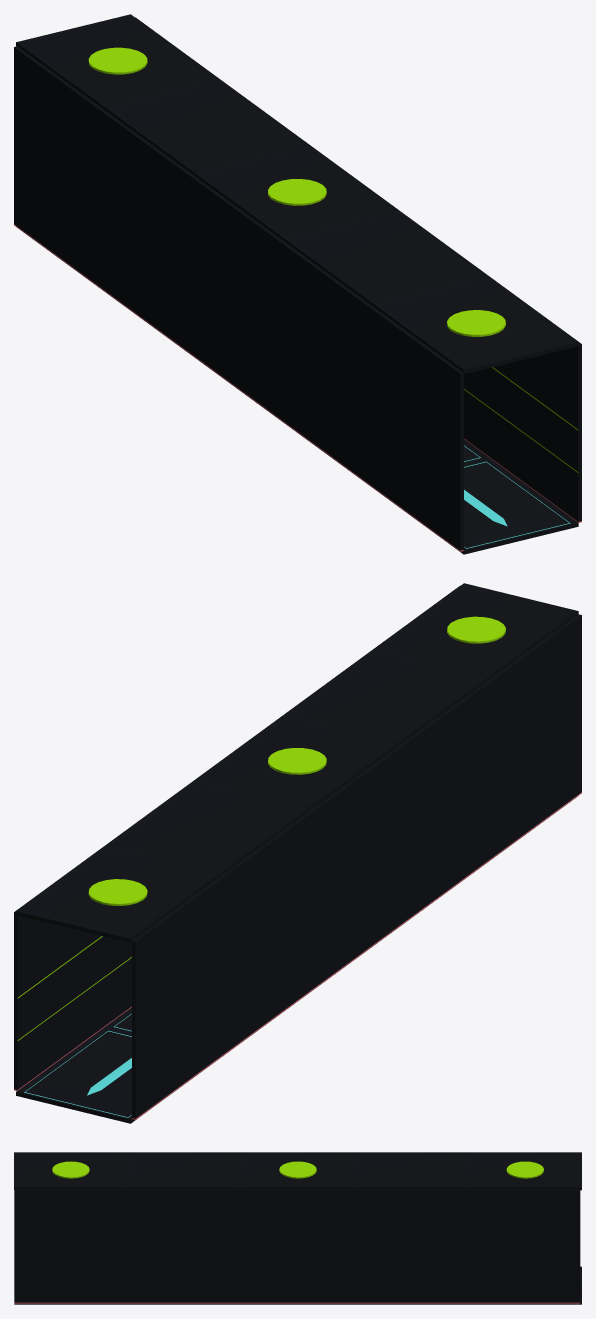
Rendered from hallway_Wave.fbx.
3 views of the same model, one above another, from view 1: azimuth 30°, elevation 25°; view 2: azimuth 150°, elevation 25°; view 3: azimuth 270°, elevation 25° (orthographic). The views are drawn at different scales.
Parts seen in each view (by area): view 1: pCylinder33, pCylinder39, polySurface22, pCylinder35, pCylinder37, polySurface24, pCube61; view 2: pCylinder33, pCylinder35, pCylinder37, pCylinder39, polySurface22, polySurface24, pCube57; view 3: pCylinder33, polySurface22, polySurface24, pCylinder35, pCylinder37, pCylinder39, pCube57, pCube59, pCube61, pCube58, pCube60.
Part boxes in pixels (box(x1,y1,x2,y2)): pCylinder33: box(14, 17, 581, 551); pCylinder39: box(374, 277, 578, 373); polySurface22: box(105, 80, 309, 175); pCylinder35: box(16, 14, 219, 110); pCylinder37: box(195, 145, 398, 241); polySurface24: box(285, 211, 488, 307); pCube61: box(374, 457, 578, 554); pCylinder33: box(14, 586, 581, 1119); pCylinder35: box(16, 845, 220, 942); pCylinder37: box(195, 714, 399, 810); pCylinder39: box(375, 583, 578, 679); polySurface22: box(106, 780, 309, 875); polySurface24: box(285, 648, 489, 744); pCube57: box(16, 1026, 219, 1123); pCylinder33: box(14, 1189, 580, 1303); polySurface22: box(354, 1152, 468, 1189); polySurface24: box(127, 1152, 241, 1189); pCylinder35: box(468, 1152, 581, 1190); pCylinder37: box(241, 1152, 354, 1189); pCylinder39: box(14, 1152, 127, 1189); pCube57: box(468, 1266, 581, 1304); pCube59: box(241, 1303, 354, 1304); pCube61: box(14, 1303, 127, 1304); pCube58: box(355, 1303, 468, 1304); pCube60: box(128, 1303, 241, 1304).
Bounding box in the file's own units: 12.55 × 18.29 × 80.02.
